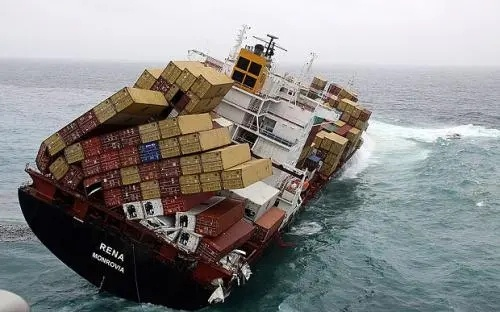Cargoship: (18, 21, 373, 300)
